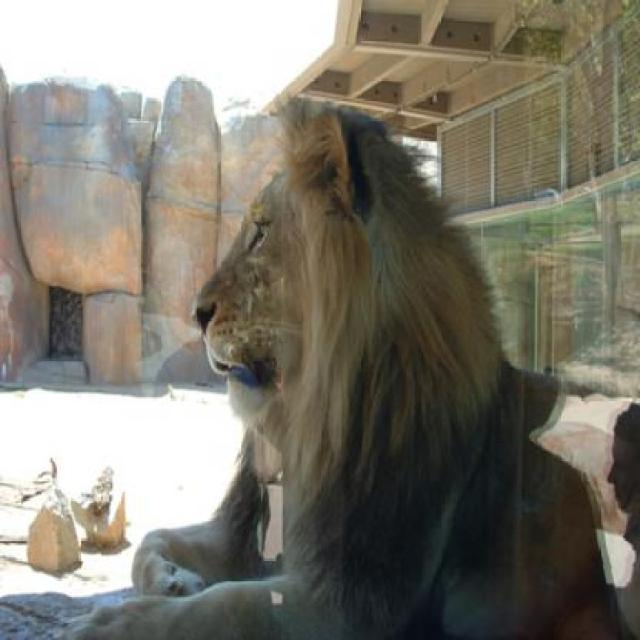Lion: (131, 69, 614, 622)
